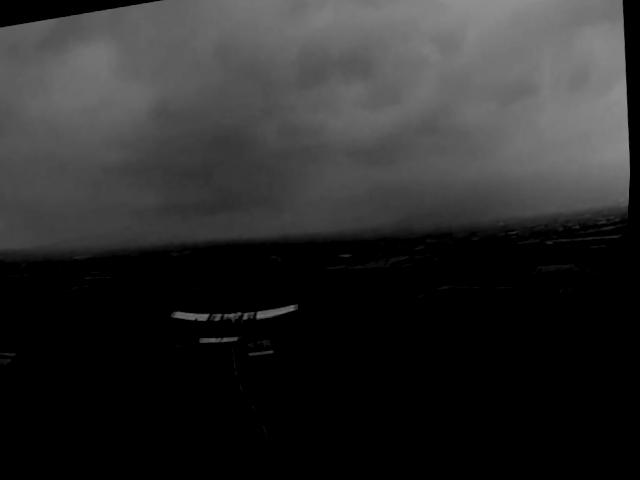hedef: (165, 281, 313, 374)
